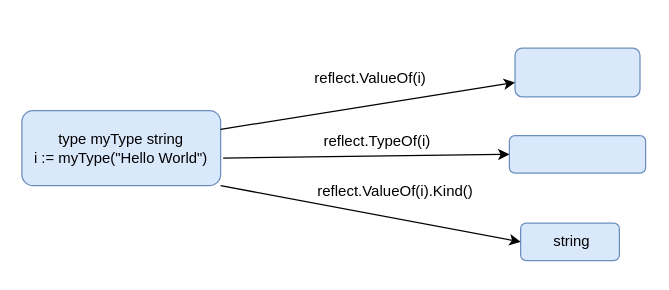
This 669x290 diagram has some shape labels left out. The shapes that lost their labels are listed below. From the top down, each one's centre as x and y in pixels, then its label:
(577,72): Hello World
(577,153): main.myType
